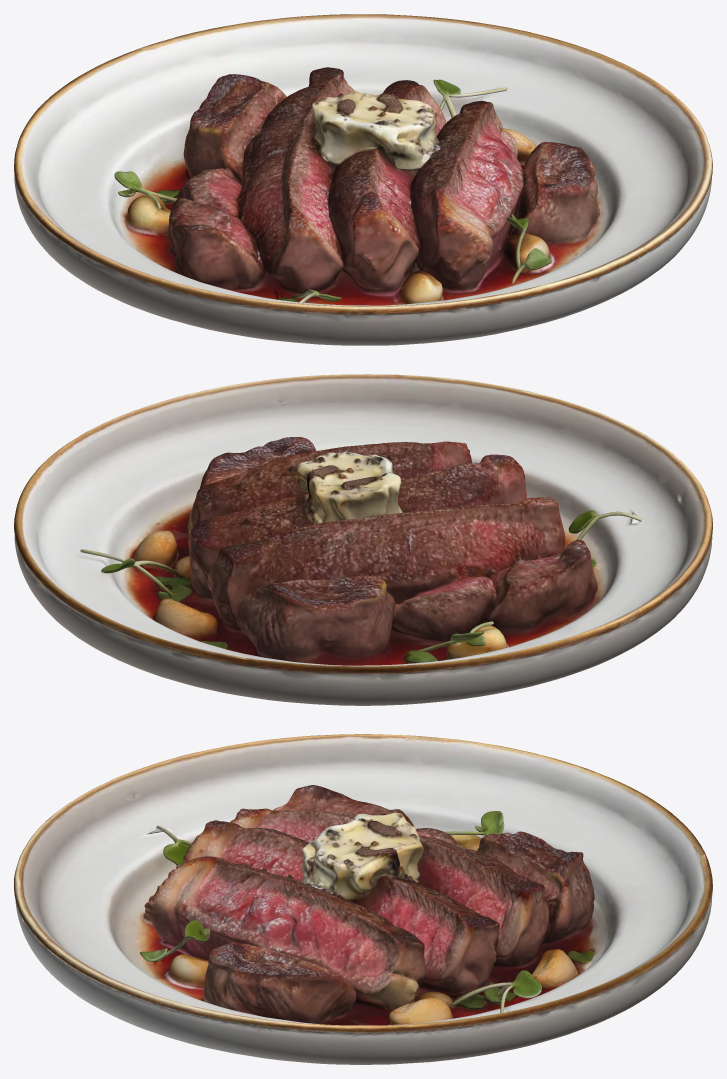
File: a5-wagyu-ribeye.glb
3 views of the same model, one above another, from view 1: azimuth 30°, elevation 25°; view 2: azimuth 150°, elevation 25°; view 3: azimuth 270°, elevation 25° (orthographic).
Visible parts, largest first — view 1: tripo_node_750c39a9-a1af-46ee-90be-d7cb903e6e86; view 2: tripo_node_750c39a9-a1af-46ee-90be-d7cb903e6e86; view 3: tripo_node_750c39a9-a1af-46ee-90be-d7cb903e6e86.
Part boxes in pixels (<box>): tripo_node_750c39a9-a1af-46ee-90be-d7cb903e6e86: <box>14,14,712,345</box>; tripo_node_750c39a9-a1af-46ee-90be-d7cb903e6e86: <box>14,374,712,705</box>; tripo_node_750c39a9-a1af-46ee-90be-d7cb903e6e86: <box>14,734,712,1064</box>.
Size of the model in its own units: 0.9779 by 0.2094 by 0.9797.
Materials: 1 (1 with a texture image).
